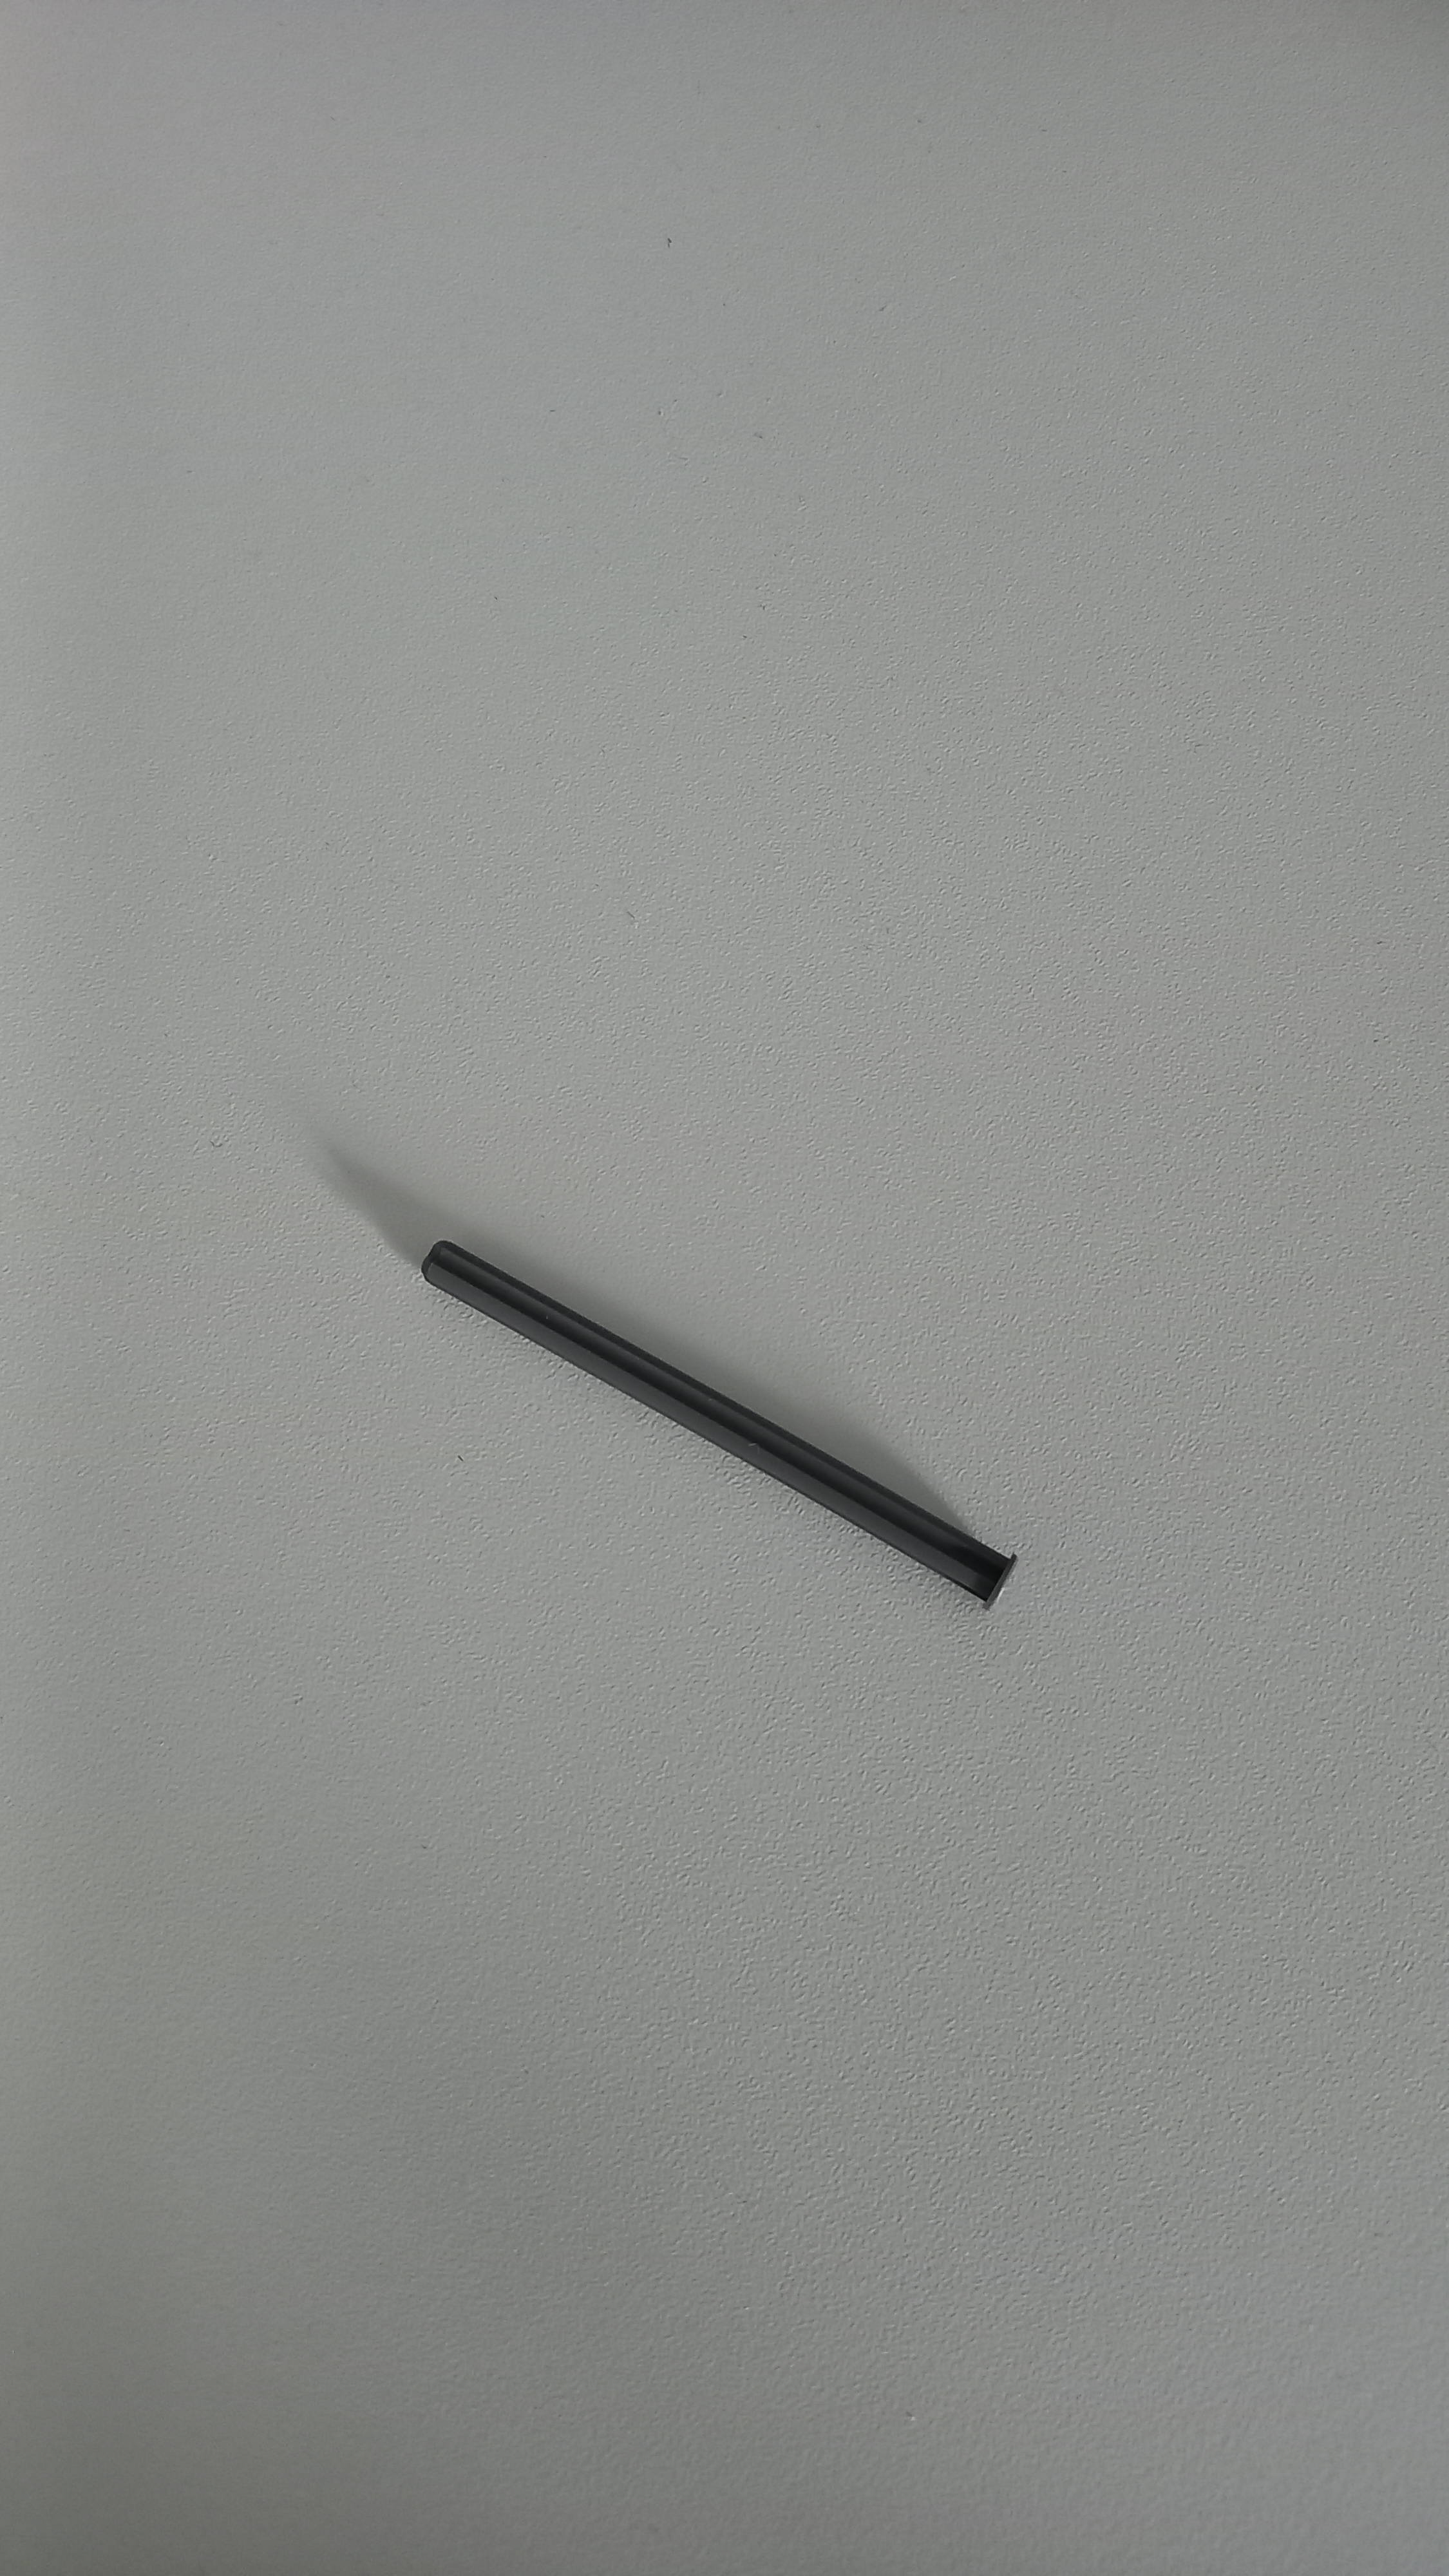Grau_lang: (403, 1203, 1053, 1661)
